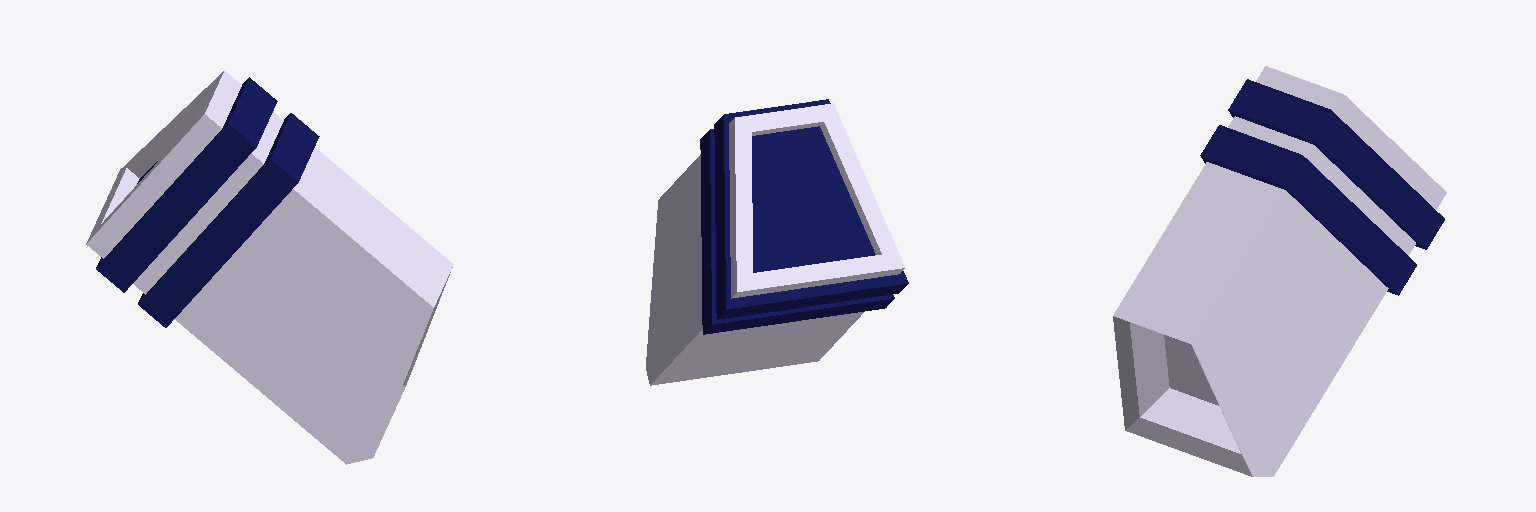
The model's file is junk0.obj.
3 renders of one model, left to right at view 1: azimuth 30°, elevation 25°; view 2: azimuth 150°, elevation 25°; view 3: azimuth 270°, elevation 25°, orthographic.
Parts seen in each view (by area): view 1: Ship_2.001_Cube.000; view 2: Ship_2.001_Cube.000; view 3: Ship_2.001_Cube.000.
Part boxes in pixels (bbox=[...]): Ship_2.001_Cube.000: bbox=[86, 70, 453, 464]; Ship_2.001_Cube.000: bbox=[646, 99, 908, 385]; Ship_2.001_Cube.000: bbox=[1113, 66, 1446, 476].
Size of the model in its own units: 3.58 by 3.6 by 3.37.